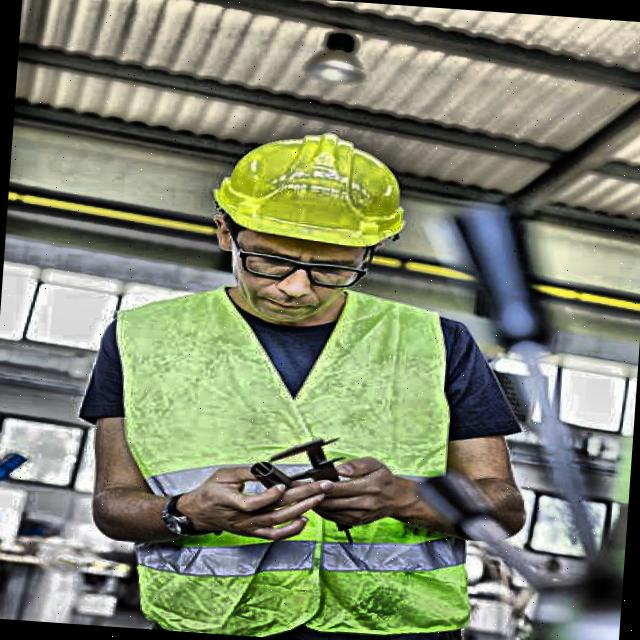helmet: (184, 100, 442, 338)
